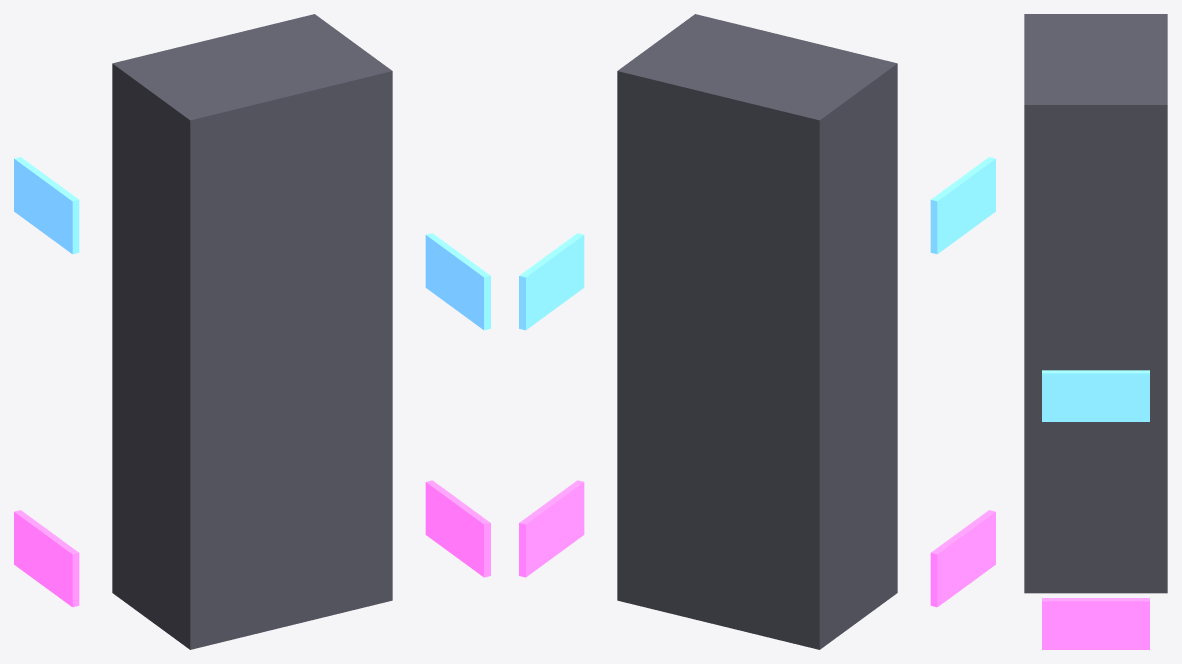
File: neon_building.glb
The picture shows the model from 3 angles, left to right: view 1: azimuth 30°, elevation 25°; view 2: azimuth 150°, elevation 25°; view 3: azimuth 270°, elevation 25°; orthographic projection. The views are drawn at different scales.
Parts seen in each view (by area): view 1: Neon3; view 2: Neon3; view 3: Neon3.
Boxes of the visible parts, box(x1,y1,x2,y2) form: Neon3: box(14, 14, 490, 649); Neon3: box(519, 14, 995, 649); Neon3: box(1024, 14, 1167, 649).
Size of the model in its own units: 1.24 by 1.52 by 0.4.
